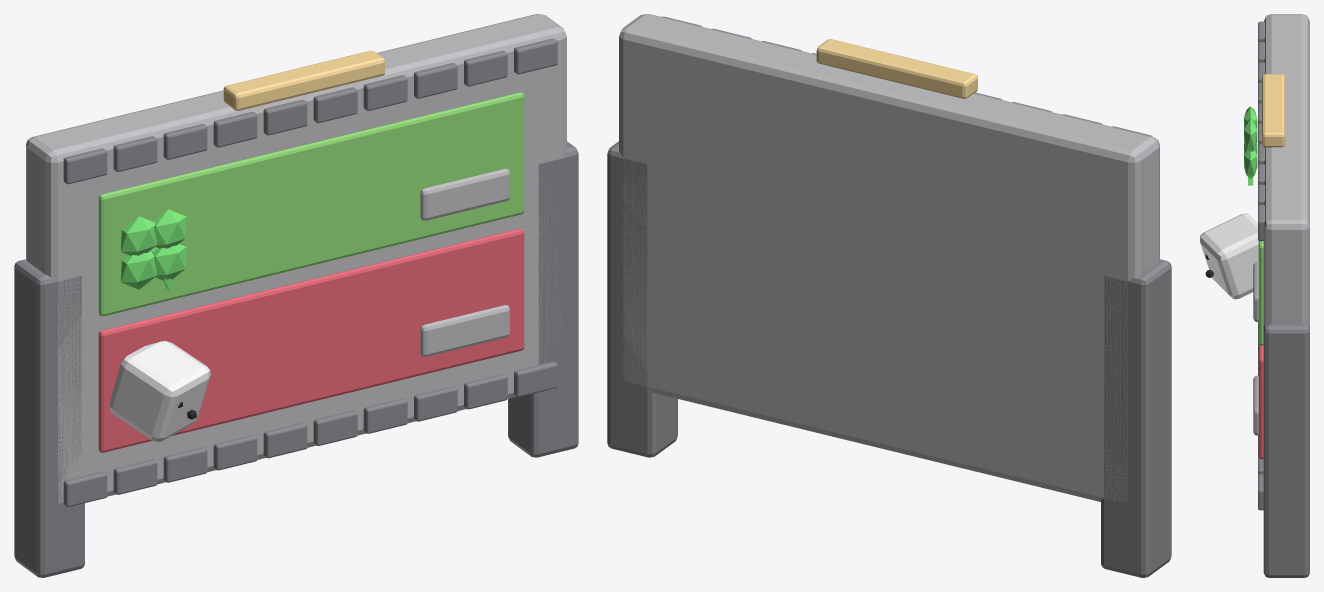
File: puesto_mejoras.obj
The picture shows the model from 3 angles, left to right: view 1: azimuth 30°, elevation 25°; view 2: azimuth 150°, elevation 25°; view 3: azimuth 270°, elevation 25°; orthographic projection. The views are drawn at different scales.
Parts seen in each view (by area): view 1: Marco, Panel_Suerte, Panel_Giros, Iconos; view 2: Marco; view 3: Marco, Iconos, Panel_Giros, Panel_Suerte.
Part boxes in pixels (box(x1,y1,x2,y2)): Marco: box(14, 14, 578, 577); Panel_Suerte: box(98, 92, 524, 316); Panel_Giros: box(98, 228, 524, 452); Iconos: box(109, 168, 509, 441); Marco: box(607, 14, 1171, 577); Marco: box(1258, 14, 1309, 577); Iconos: box(1200, 106, 1258, 435); Panel_Giros: box(1258, 343, 1263, 459); Panel_Suerte: box(1258, 241, 1263, 345).
Bounding box in the file's own units: 7.9 × 6.12 × 1.67.
Materials: 1 (1 with a texture image).
